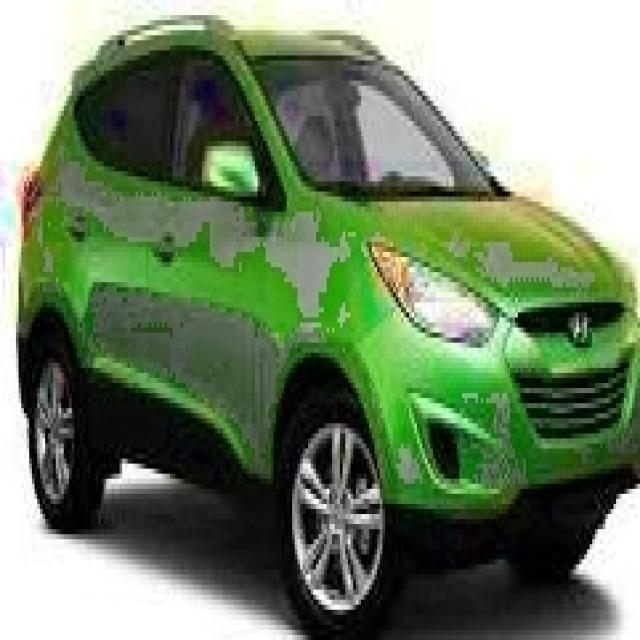green: (21, 15, 640, 640)
